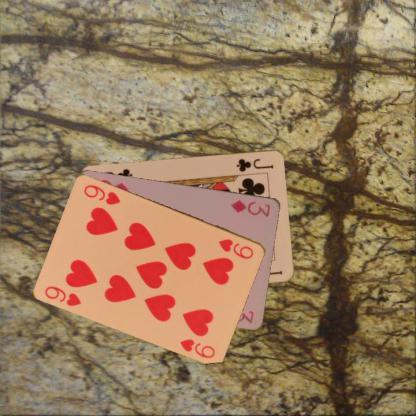3d: (229, 197, 272, 218)
9h: (42, 283, 83, 307), (216, 236, 255, 260)
Jc: (234, 156, 275, 173)
